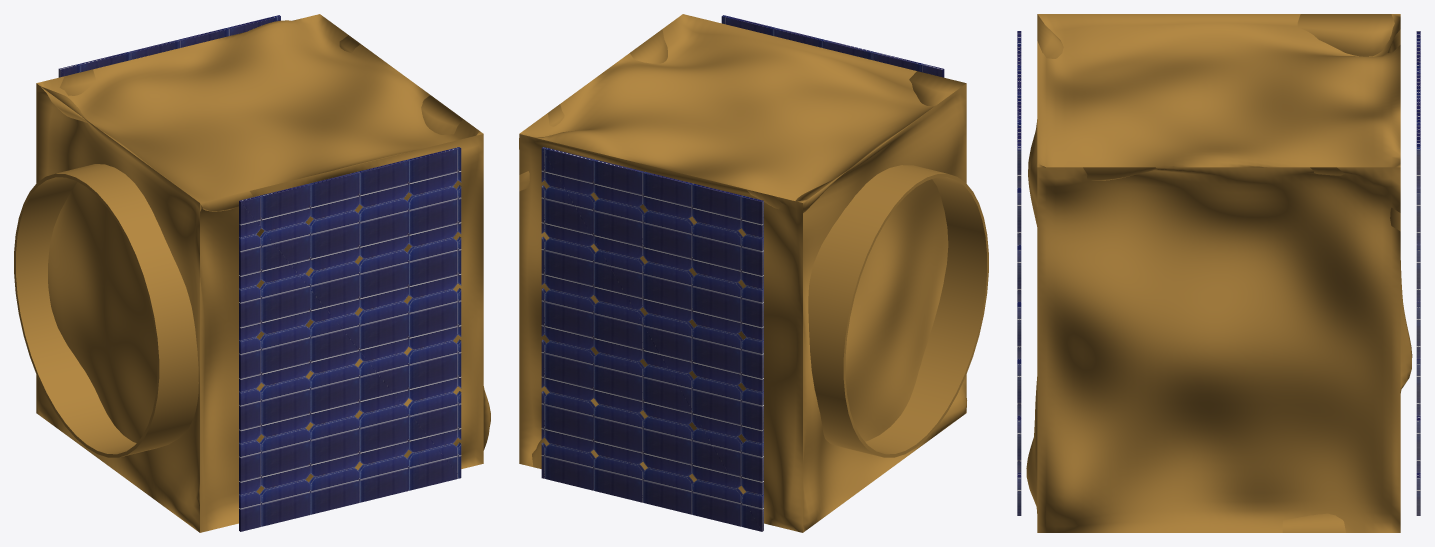
Rendered from Component_Payload__Rocket.obj.
3 renders of one model, left to right at view 1: azimuth 30°, elevation 25°; view 2: azimuth 150°, elevation 25°; view 3: azimuth 270°, elevation 25°, orthographic. The views are drawn at different scales.
Visible parts, largest first — view 1: g_MLI_Mat, g_Solar_Cell_Mat; view 2: g_MLI_Mat, g_Solar_Cell_Mat; view 3: g_MLI_Mat, g_Solar_Cell_Mat.
Part boxes in pixels (x1=…): g_MLI_Mat: x1=14, y1=14, x2=490, y2=532; g_Solar_Cell_Mat: x1=58, y1=15, x2=461, y2=531; g_MLI_Mat: x1=519, y1=14, x2=988, y2=532; g_Solar_Cell_Mat: x1=541, y1=15, x2=944, y2=531; g_MLI_Mat: x1=1026, y1=14, x2=1412, y2=532; g_Solar_Cell_Mat: x1=1017, y1=31, x2=1420, y2=515.
Bounding box in the file's own units: 1.05 × 1.04 × 1.
Materials: 2 (1 with a texture image).
